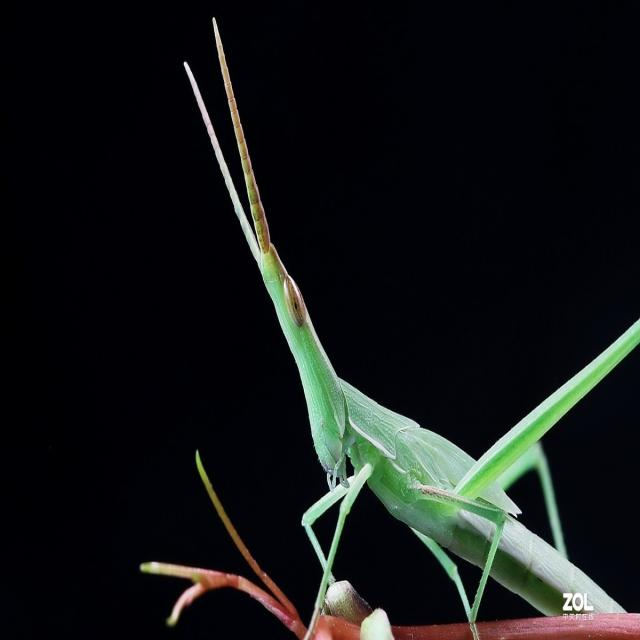ZhaMeng: (170, 24, 620, 614)
